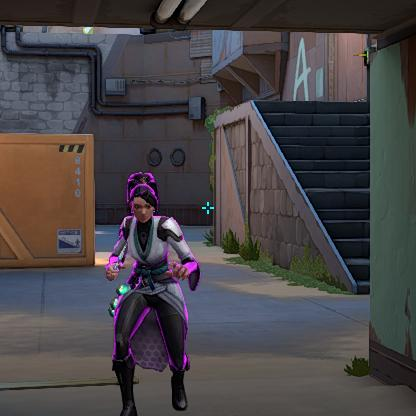enemyBody: (130, 222, 166, 292)
enemyHead: (131, 189, 153, 214)
